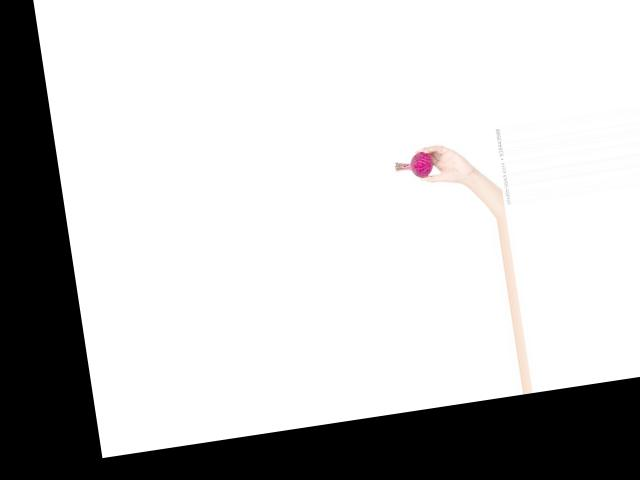beet: (393, 149, 433, 181)
